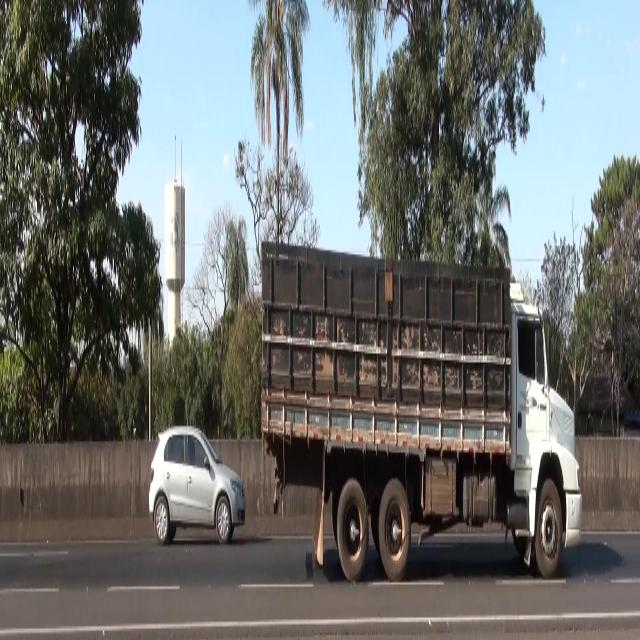-axle: (533, 481, 564, 589), (379, 478, 410, 582), (337, 473, 367, 580)
